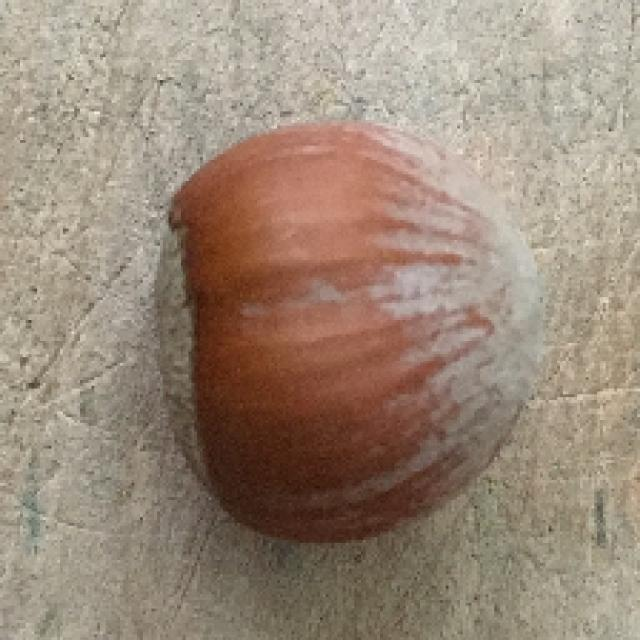QualityHazelnut: (151, 119, 545, 545)
